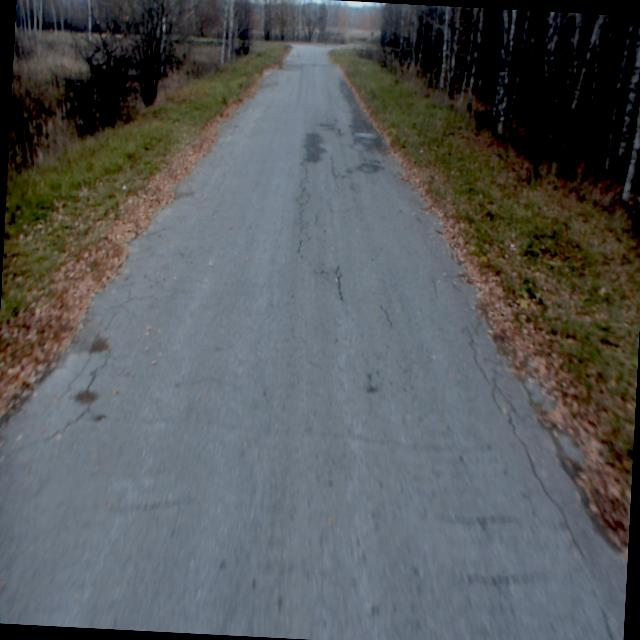road: (0, 43, 627, 640)
